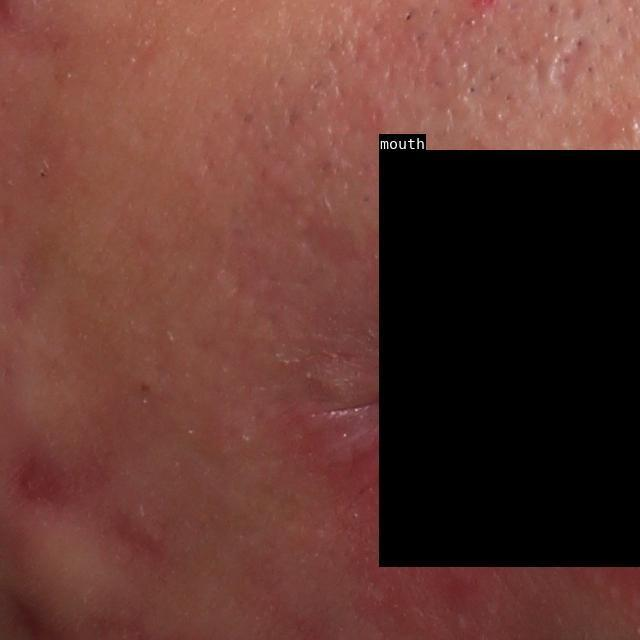atrophic_scar: (4, 430, 122, 513), (549, 36, 583, 101)
hypertrophic_scar: (105, 501, 177, 588)
